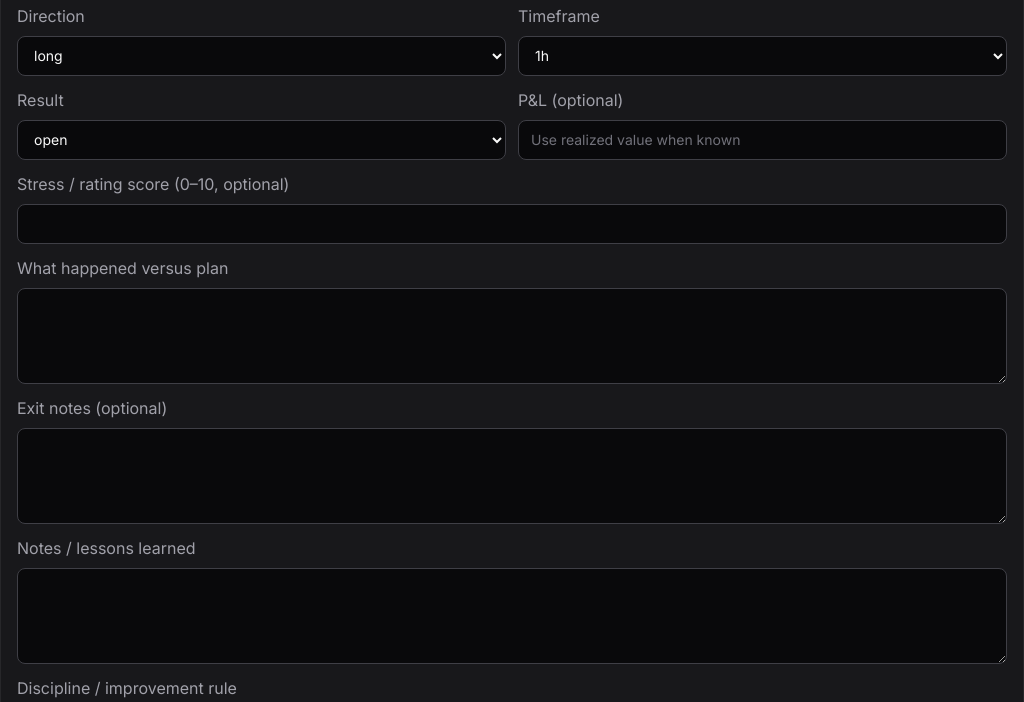
Test: Journal hub Phase C3A › surfaces failed save without claiming success
(page scrolled)
Type "Attempted save." into the text box labelled "What happened versus plan" at (512, 336), box x1=17 y1=288 x2=1007 y2=384
(page scrolled)
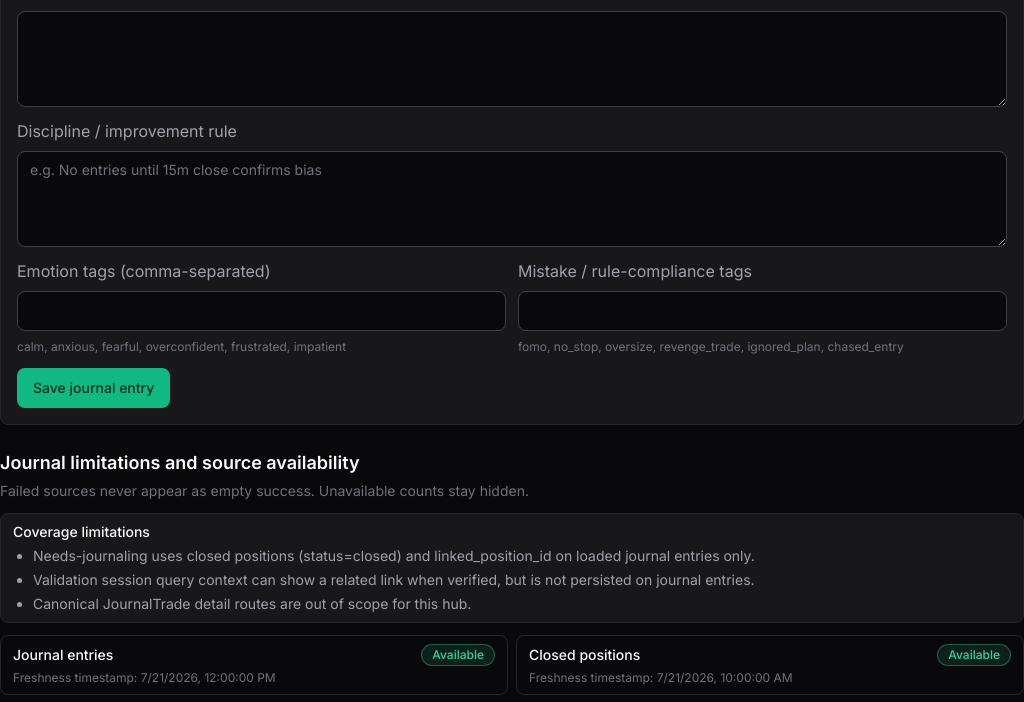
Click the button "Save journal entry" at (94, 388), box x1=17 y1=368 x2=170 y2=408
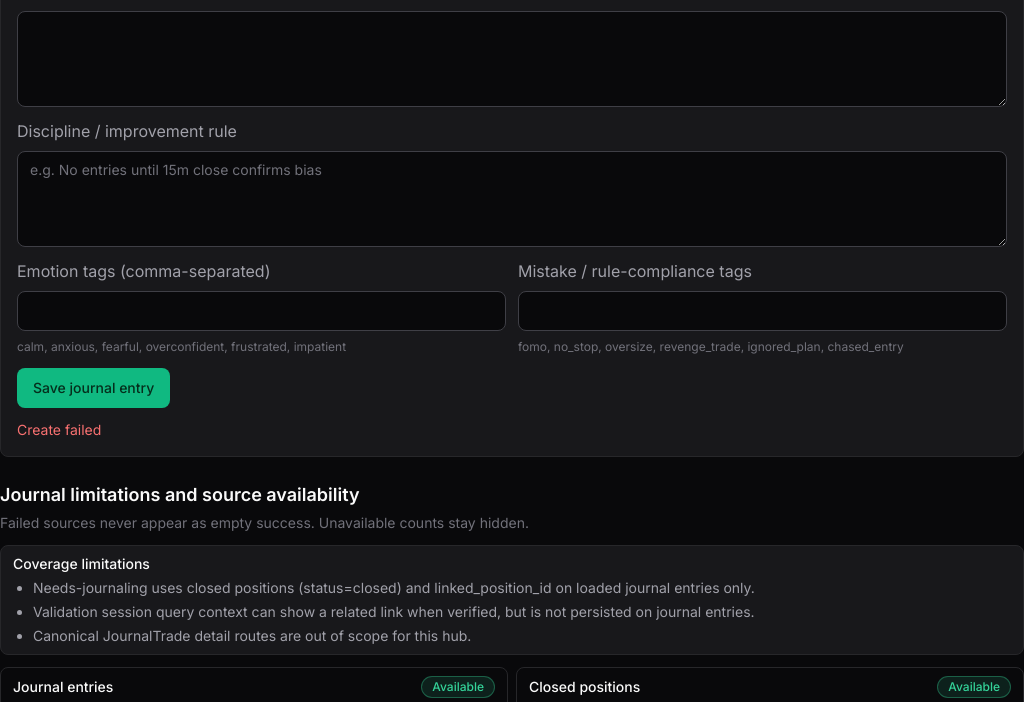
Expected: the message with test id "journal-save-error" reads "Create failed", x1=17 y1=421 x2=101 y2=438
